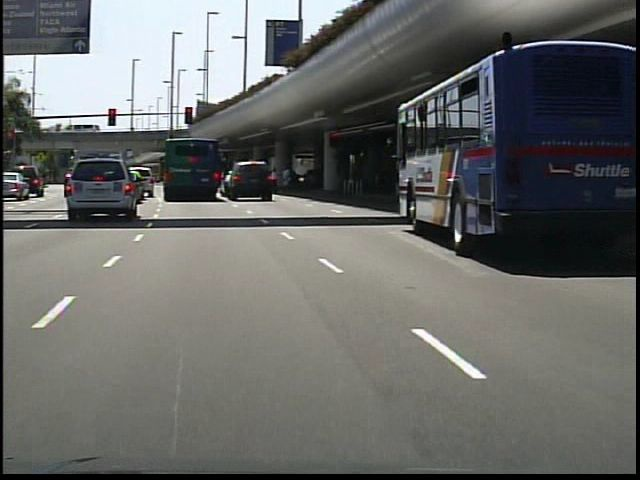person: (278, 161, 298, 198)
